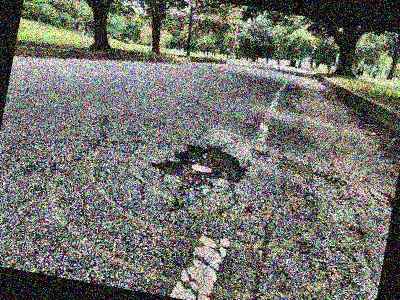pothole: (150, 133, 255, 194)
